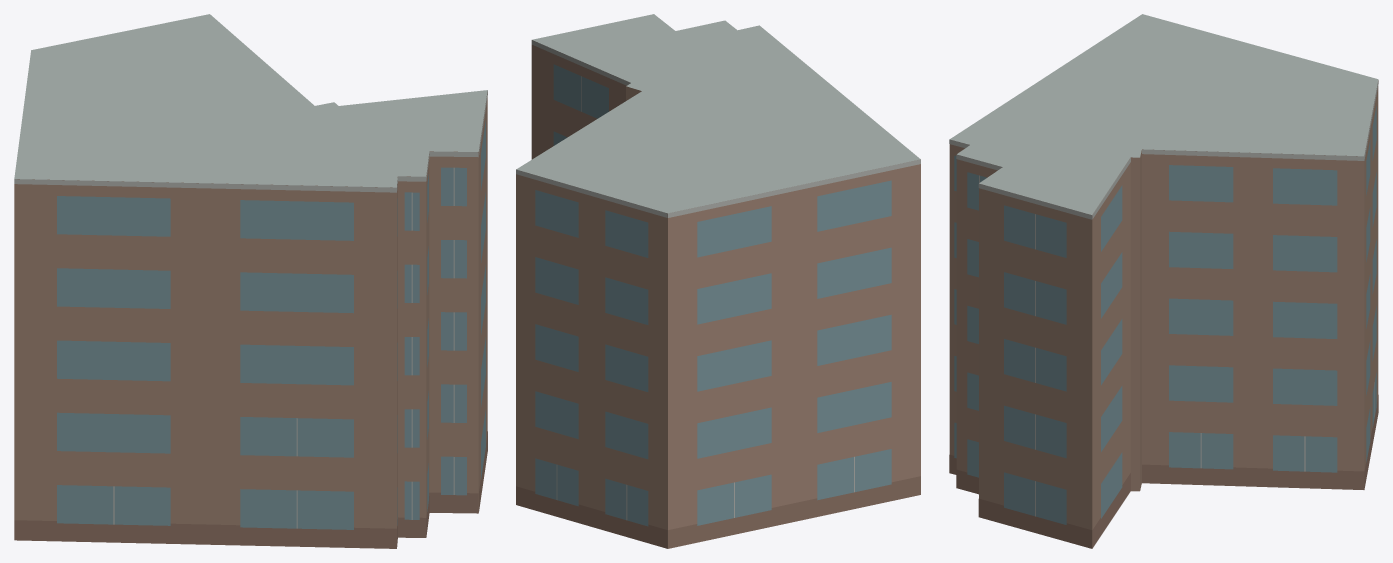
Rendered from survey-upis-32993190.glb.
The picture shows the model from 3 angles, left to right: view 1: azimuth 30°, elevation 25°; view 2: azimuth 150°, elevation 25°; view 3: azimuth 270°, elevation 25°; orthographic projection. The views are drawn at different scales.
Visible parts, largest first — view 1: survey-upis-32993190.tmp; view 2: survey-upis-32993190.tmp; view 3: survey-upis-32993190.tmp.
Part boxes in pixels (box(x1,y1,x2,y2)): survey-upis-32993190.tmp: box(14, 14, 487, 548); survey-upis-32993190.tmp: box(516, 14, 920, 548); survey-upis-32993190.tmp: box(949, 14, 1378, 548).
Size of the model in its own units: 22.43 by 17.35 by 20.22.
